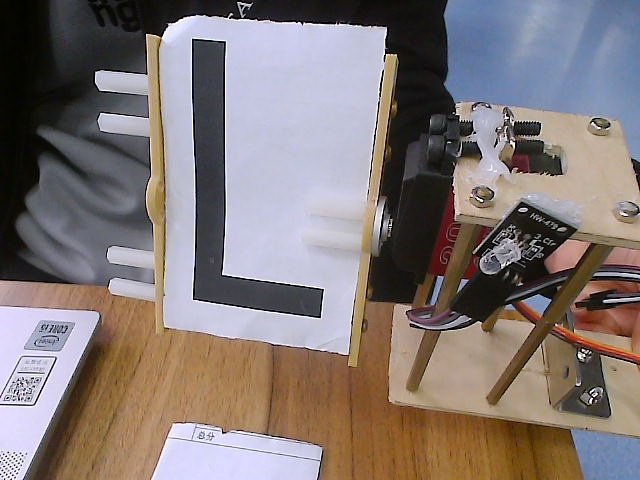L: (84, 9, 429, 367)
